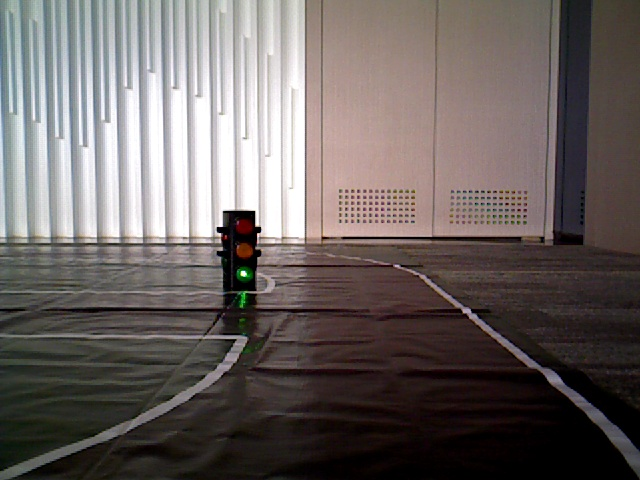green: (228, 214, 257, 284)
